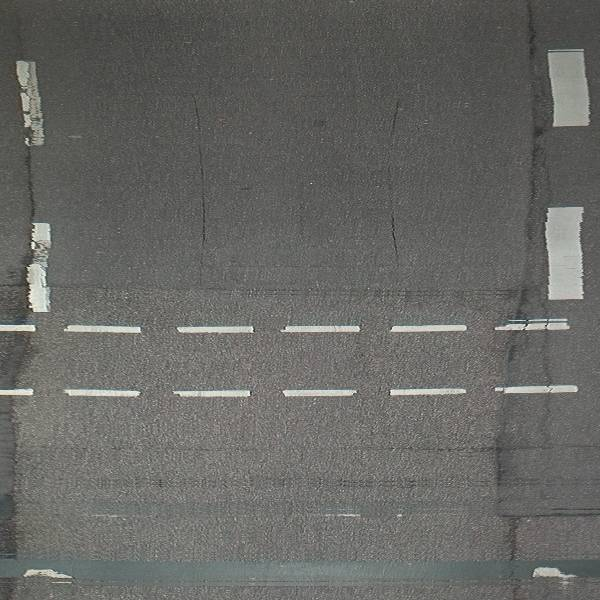road_damage: (45, 549, 600, 590), (525, 26, 544, 257), (482, 501, 600, 537), (501, 287, 534, 369), (490, 423, 518, 511), (11, 236, 36, 317)
